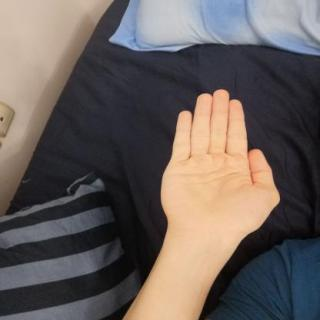SEEN: (152, 82, 288, 250)
